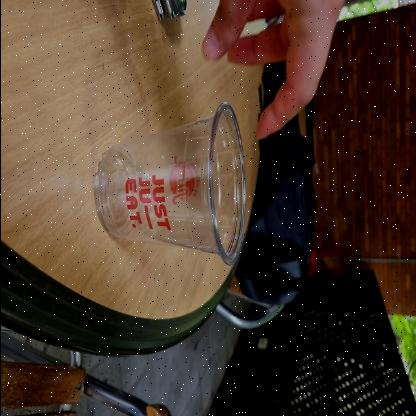Others: (88, 98, 250, 272)
